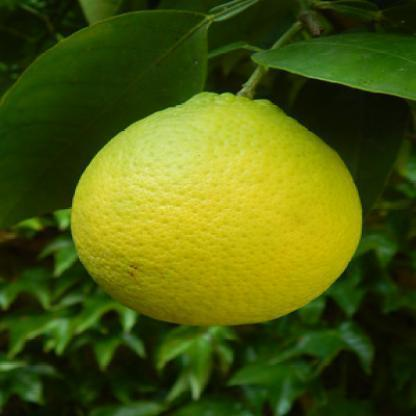lemon: (70, 92, 363, 326)
